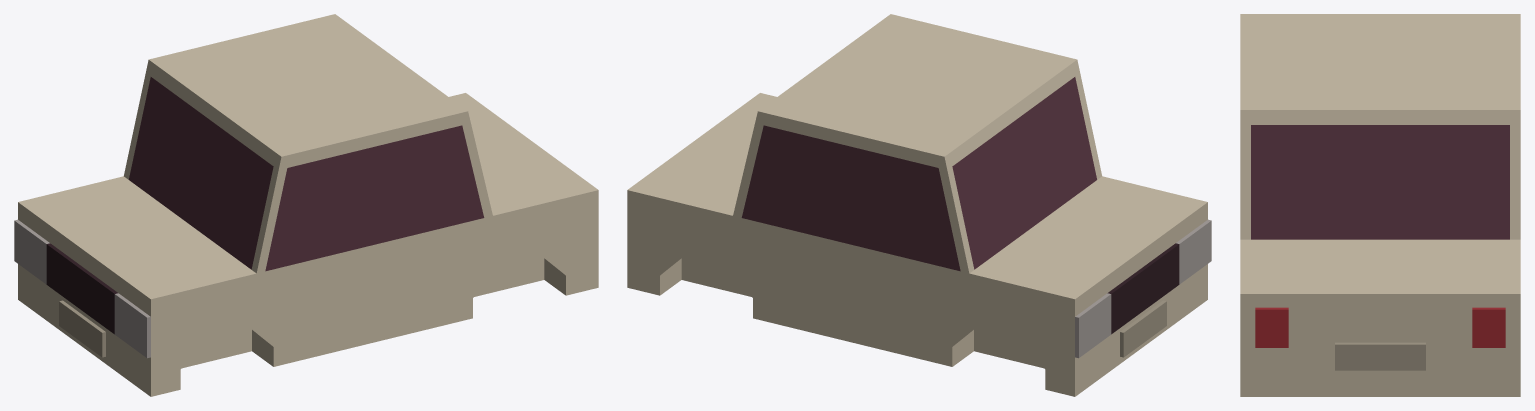
The model's file is Sedan_White.fbx.
The picture shows the model from 3 angles, left to right: view 1: azimuth 30°, elevation 25°; view 2: azimuth 150°, elevation 25°; view 3: azimuth 270°, elevation 25°; orthographic projection. The views are drawn at different scales.
Parts seen in each view (by area): view 1: Sedan_White, Sedan_Lights; view 2: Sedan_White, Sedan_Lights; view 3: Sedan_White, Sedan_Lights.
Part boxes in pixels (x1,y1,x2,y2): Sedan_White: [18, 14, 598, 396]; Sedan_Lights: [14, 219, 150, 358]; Sedan_White: [627, 14, 1207, 396]; Sedan_Lights: [1075, 219, 1211, 358]; Sedan_White: [1240, 14, 1520, 396]; Sedan_Lights: [1255, 307, 1505, 347].
Bounding box in the file's own units: 3.66 × 1.6 × 1.85.
